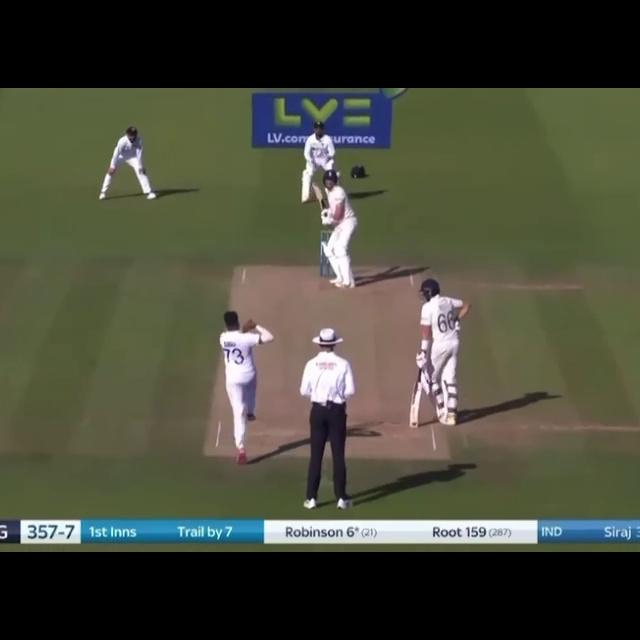umpire: (288, 320, 362, 511)
